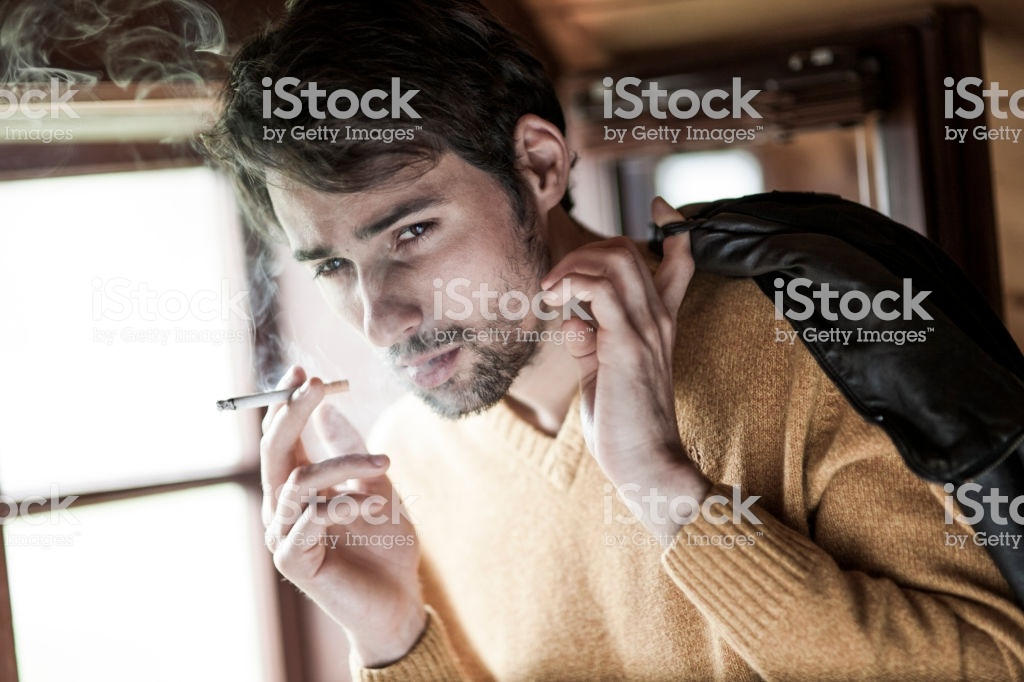sigaretta: (215, 378, 350, 415)
